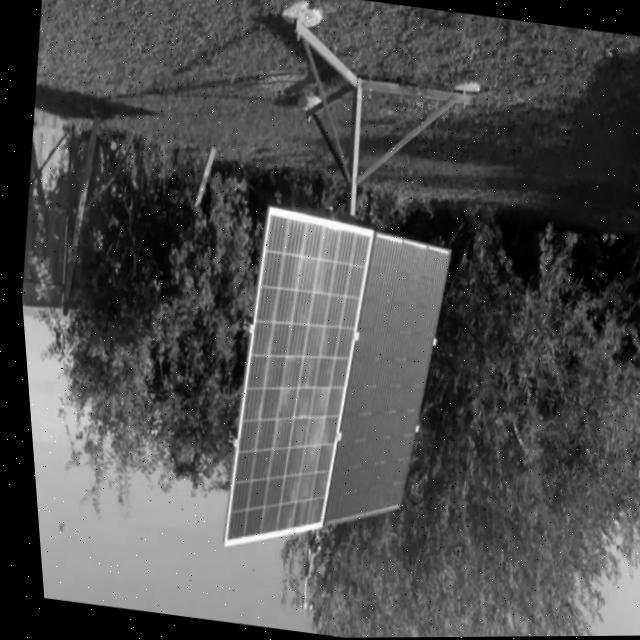Normal Solar Panel: (198, 206, 386, 561), (298, 230, 462, 539)
